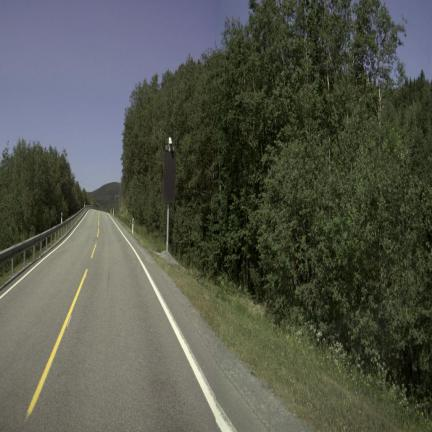Road: (0, 211, 304, 430)
